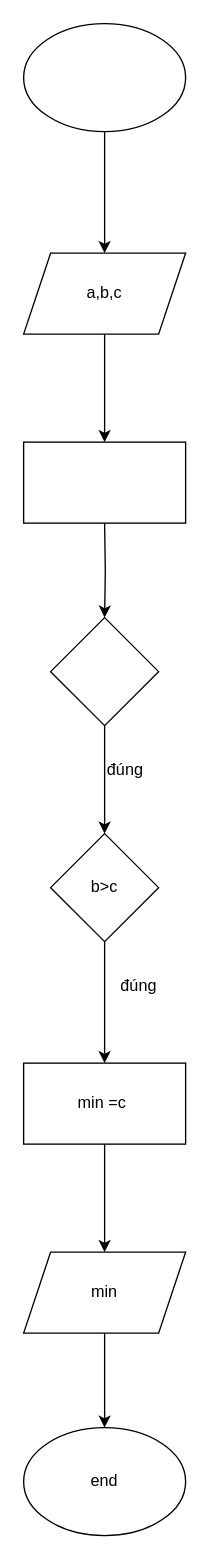
The diagram is 209 pixels wide and 1559 high, and some of its shapes have lost their labels. Here are the shapes that lost their labels. From the top down, the box of each, then its label:
(22, 22, 186, 132): start
(22, 441, 186, 523): min = a
(49, 616, 159, 726): a>b
